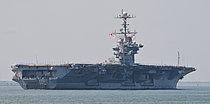MIL_Ship: (10, 8, 197, 89)
